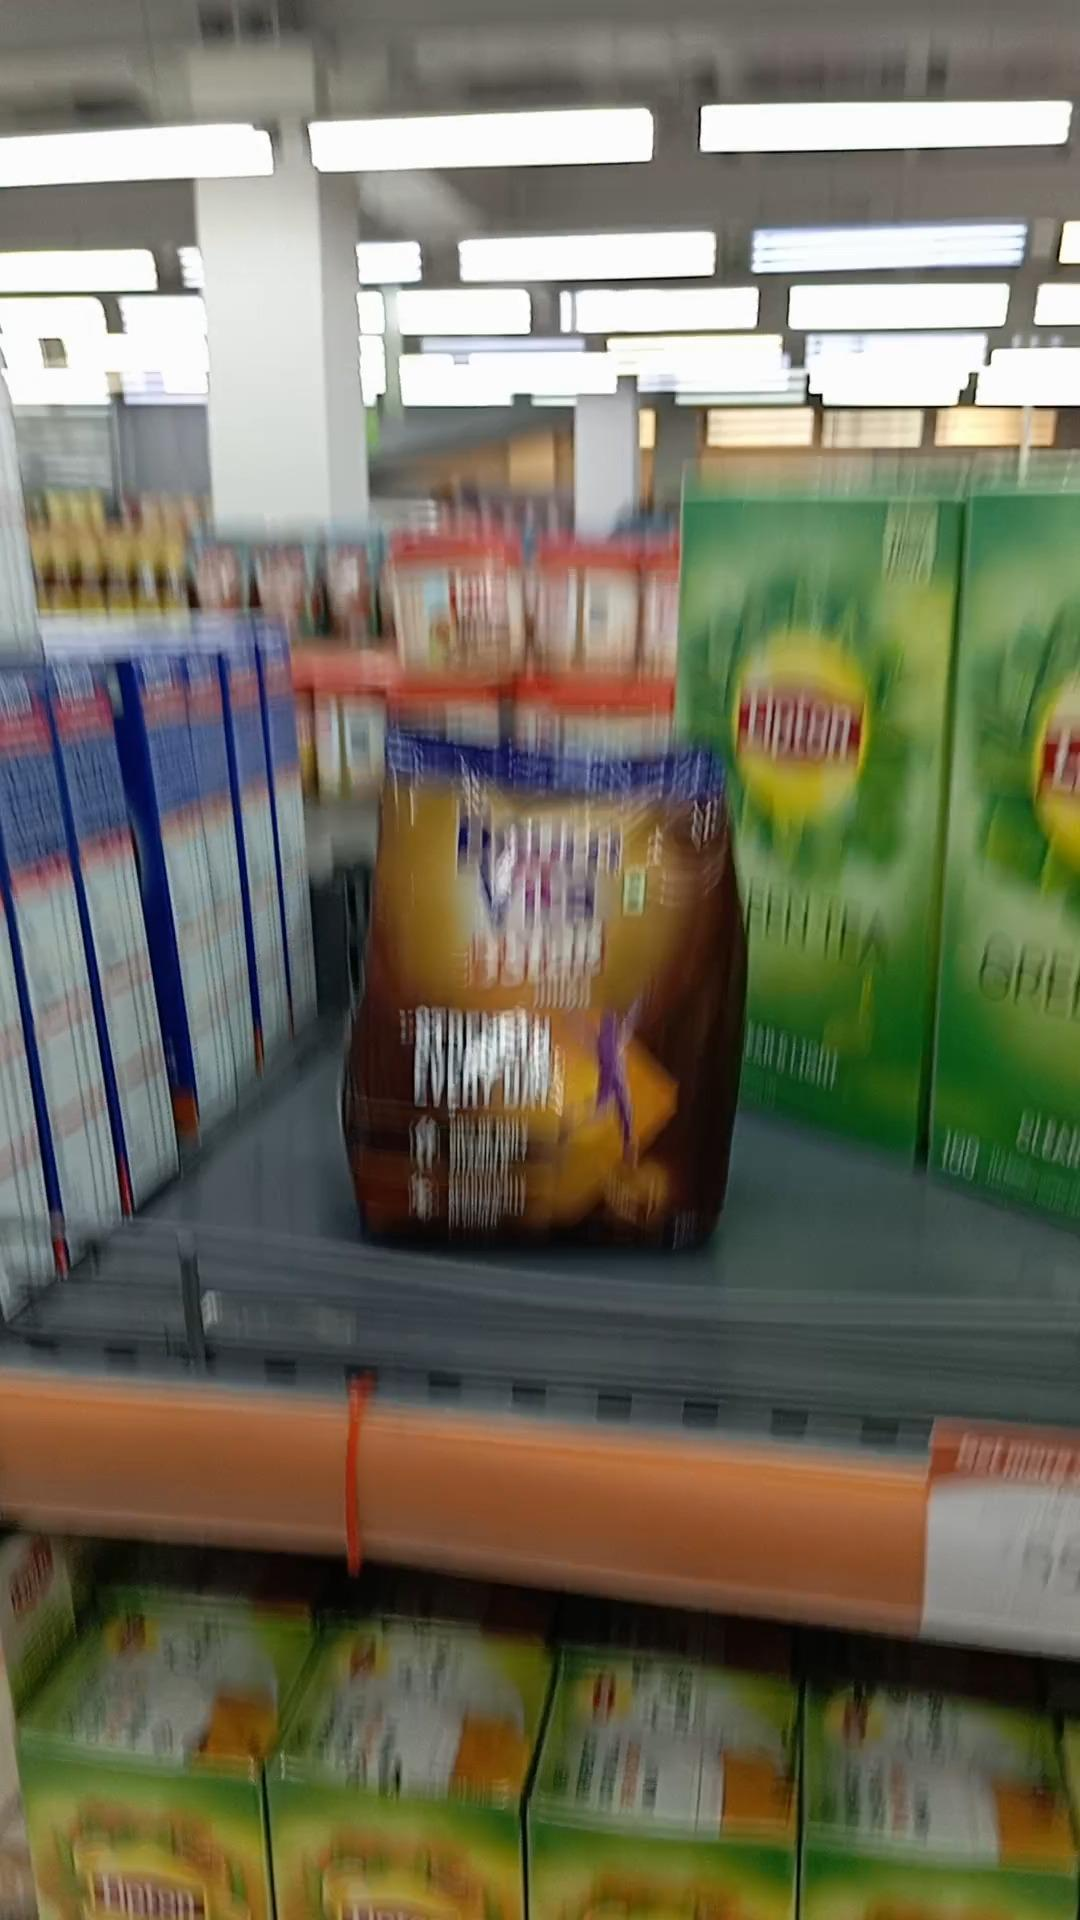BOURN_VITA_FIVE_STAR_MAGIC_500_G_POUCH: (371, 733, 720, 1266)
